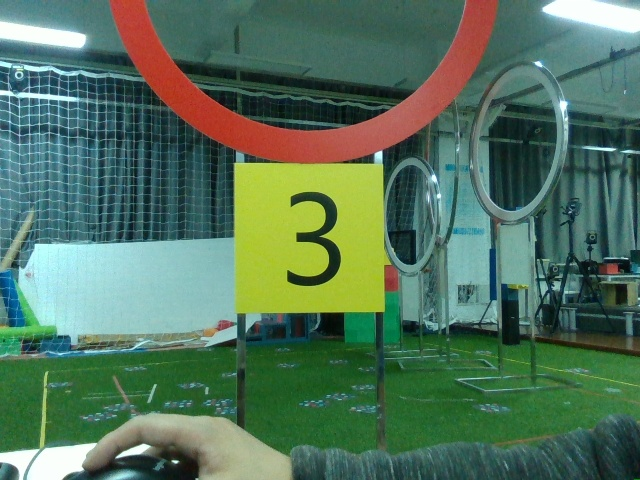target: (236, 165, 381, 311)
